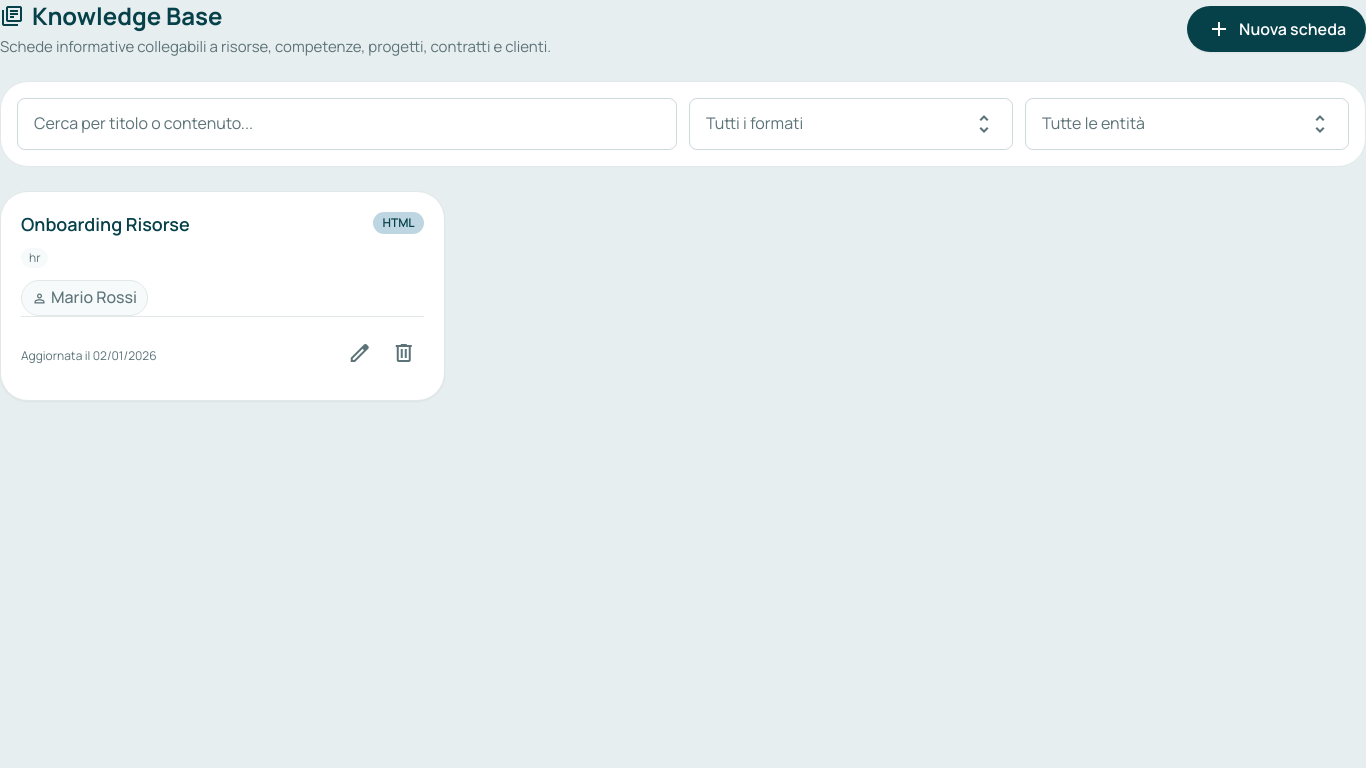
KnowledgeBasePage - creazione › apre la form di creazione cliccando su Nuova scheda
This screenshot has width=1366, height=768.
Click the button "Nuova scheda".
click(1277, 28)  # box [1187,6,1365,52]
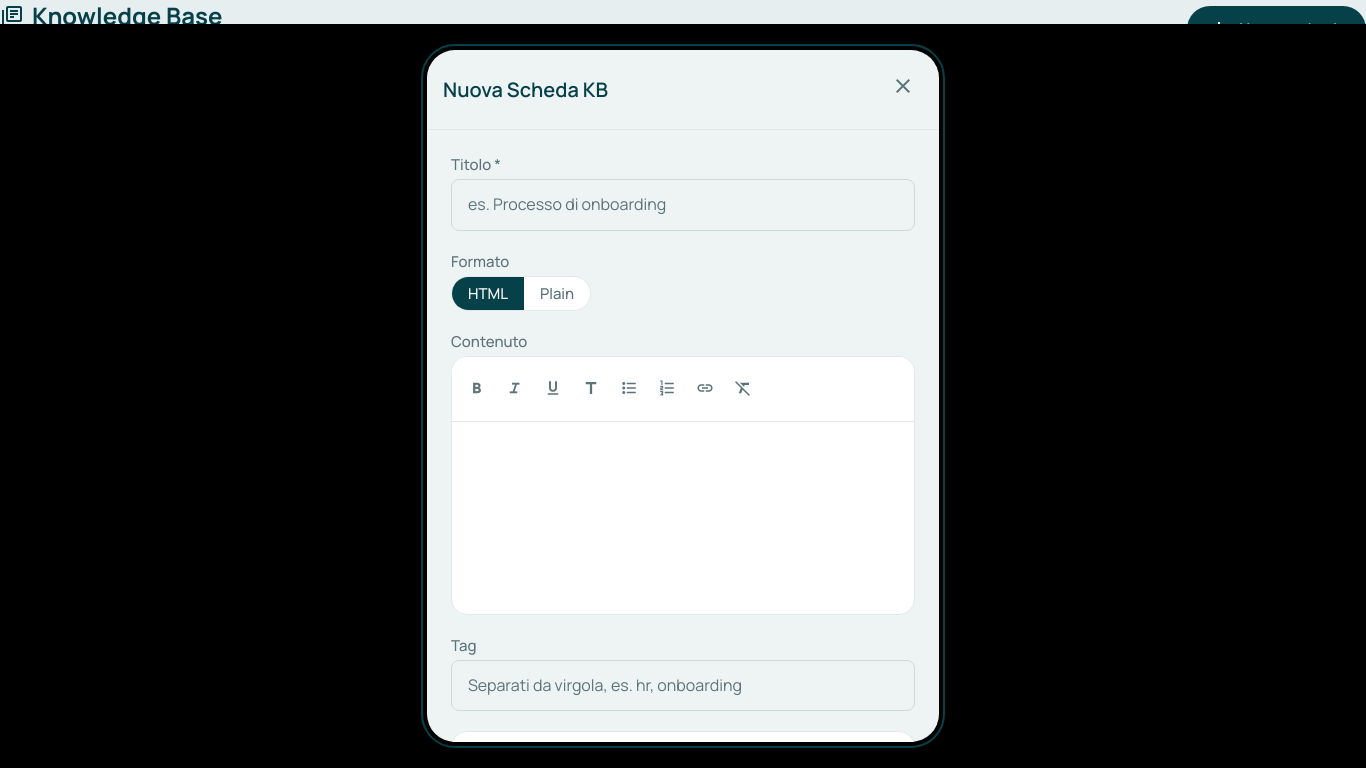
Check: the heading "Nuova Scheda KB" is shown, box [443,71,608,109]
Check: the field labelled "Titolo *" is shown, box [451,179,915,231]
